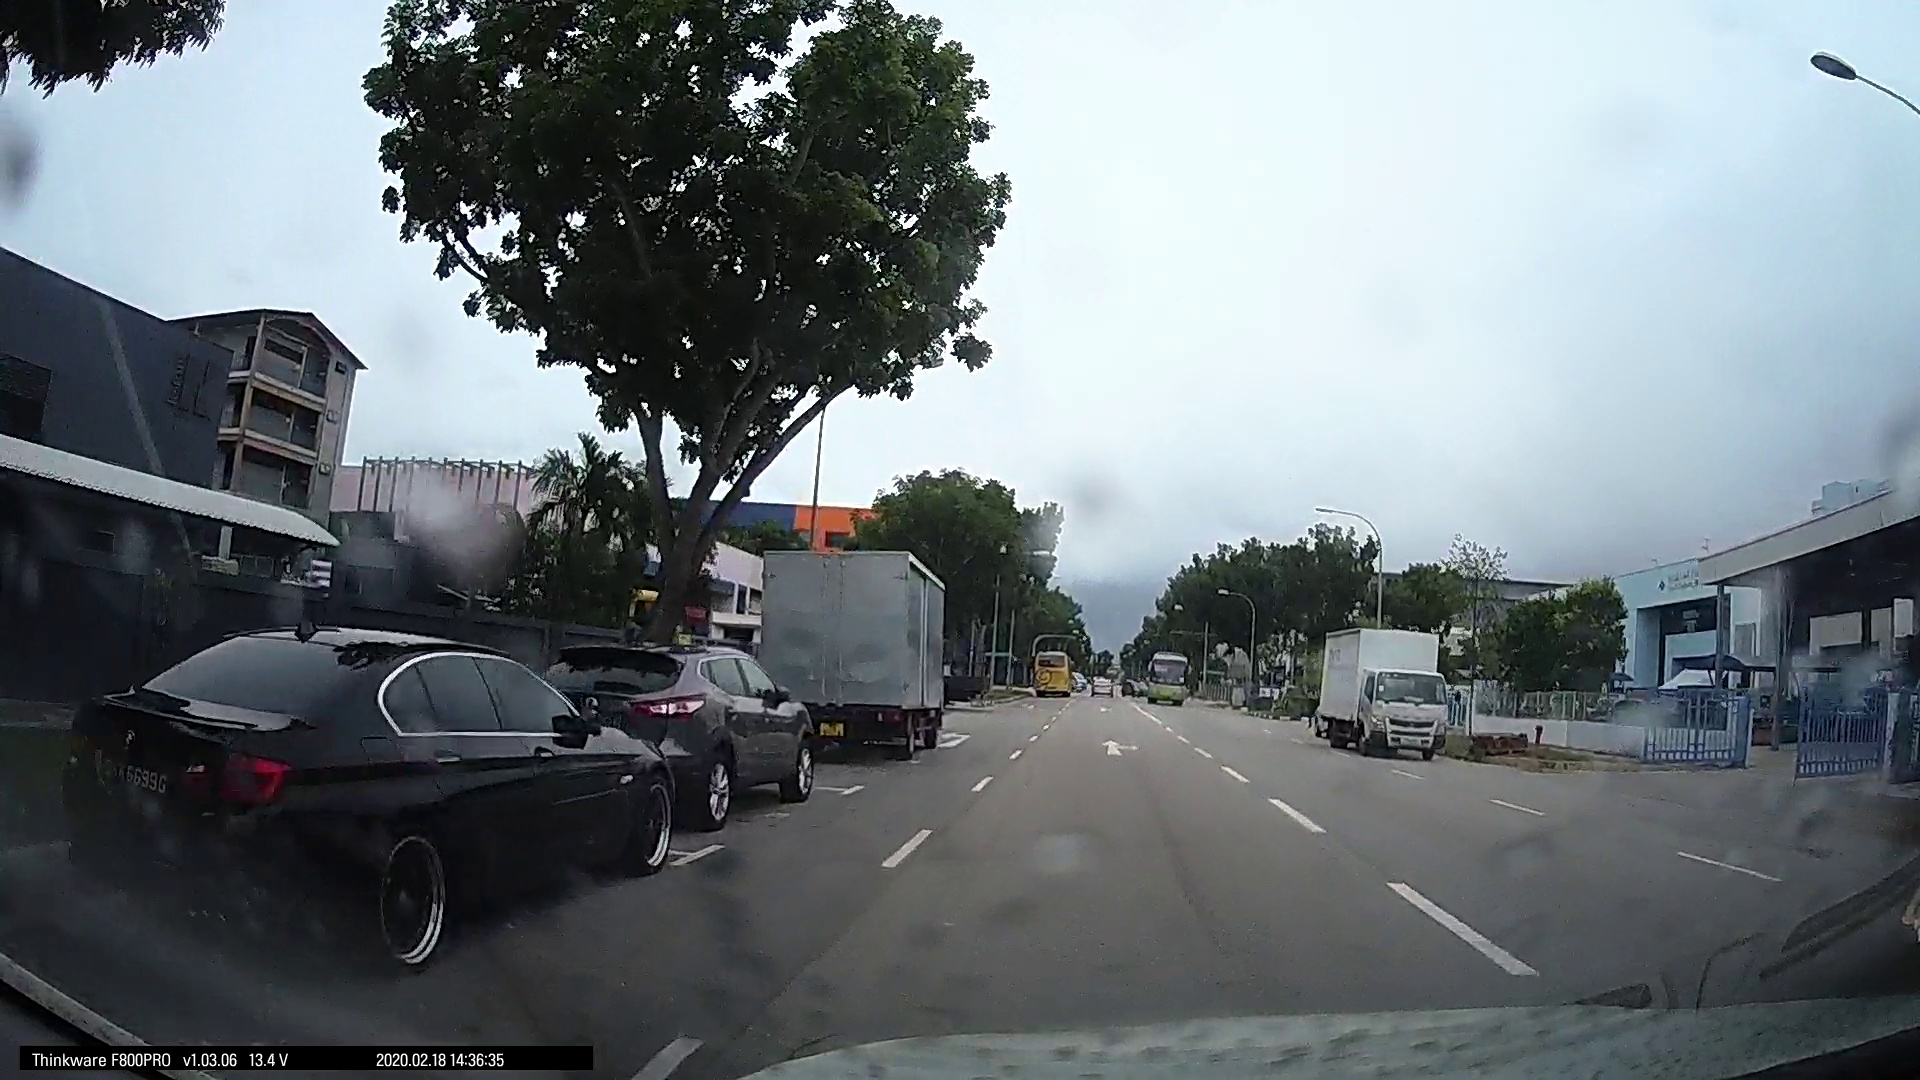Heavy Vehicle: (760, 541, 953, 764), (1312, 625, 1453, 762)
Light Vehicle: (63, 617, 678, 957), (596, 636, 818, 825), (1138, 651, 1189, 705), (1027, 647, 1083, 698)
